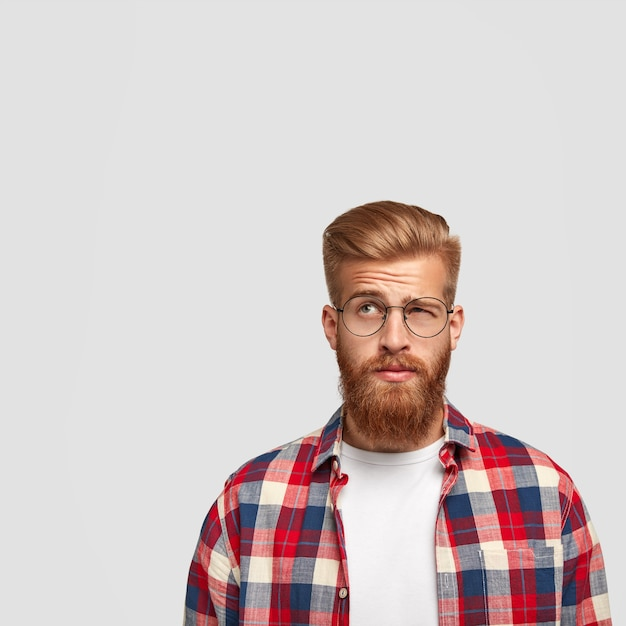young: (317, 176, 486, 461)
